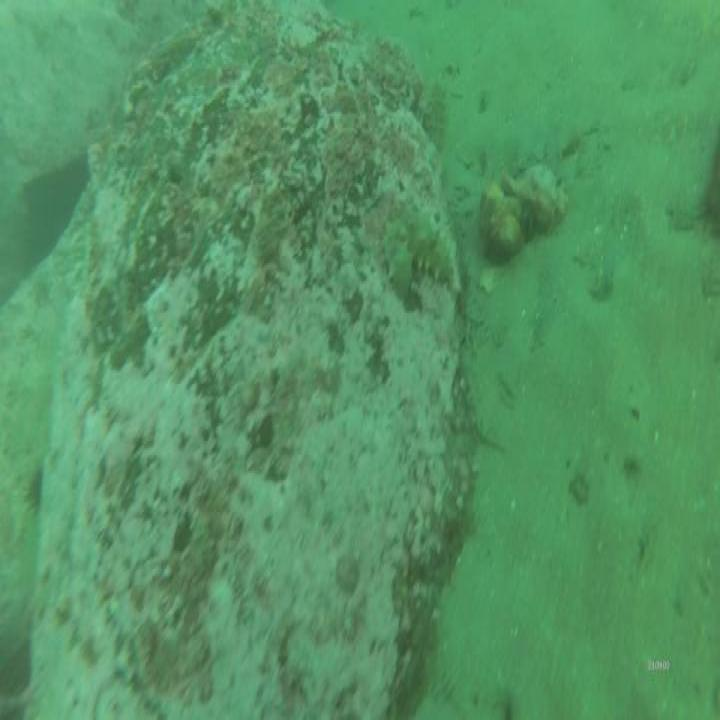holothurian: (383, 206, 456, 297)
